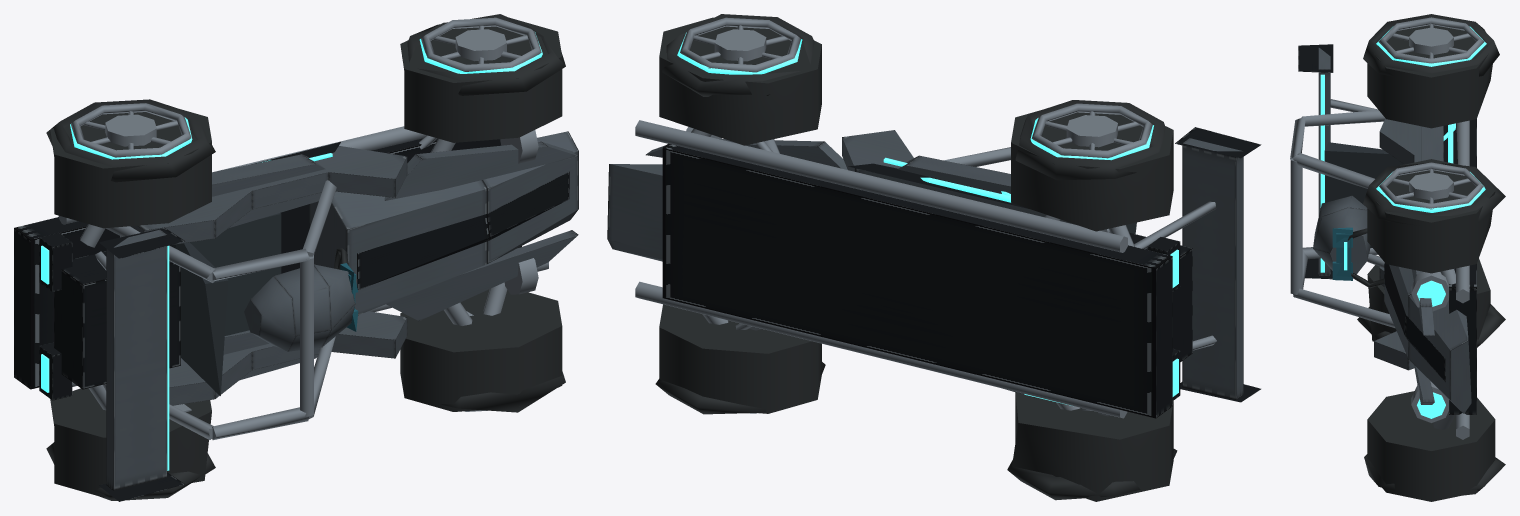
The model's file is kart-low.glb.
3 views of the same model, side by side, from view 1: azimuth 30°, elevation 25°; view 2: azimuth 150°, elevation 25°; view 3: azimuth 270°, elevation 25° (orthographic). The views are drawn at different scales.
Visible parts, largest first — view 1: kart-root.001 / Brushed pale alloy.001, kart-root.001 / Ceramic graphite.001, Wheel 0 -1.001 / Tire rubber.001, Wheel 1 1.001 / Tire rubber.001, Wheel 0 1.001 / Tire rubber.001, kart-root.001 / Titanium edges.001, kart-root.001 / Cockpit upholstery.001, Wheel 1 -1.001 / Tire rubber.001, Wheel 1 1.001 / Titanium edges.001, Wheel 0 1.001 / Titanium edges.001, kart-root.001 / Cyan instrumentation.001; view 2: kart-root.001 / Ceramic graphite.001, kart-root.001 / Brushed pale alloy.001, kart-root.001 / Titanium edges.001, Wheel 1 1.001 / Tire rubber.001, Wheel 0 1.001 / Tire rubber.001, Wheel 1 -1.001 / Tire rubber.001, Wheel 0 -1.001 / Tire rubber.001, Wheel 1 1.001 / Titanium edges.001, Wheel 0 1.001 / Titanium edges.001, kart-root.001 / Cyan instrumentation.001; view 3: kart-root.001 / Brushed pale alloy.001, Wheel 0 -1.001 / Tire rubber.001, Wheel 1 1.001 / Tire rubber.001, Wheel 0 1.001 / Tire rubber.001, kart-root.001 / Titanium edges.001, kart-root.001 / Ceramic graphite.001, Wheel 1 1.001 / Titanium edges.001, Wheel 0 1.001 / Titanium edges.001, kart-root.001 / Cockpit upholstery.001, Wheel 1 -1.001 / Tire rubber.001, kart-root.001 / Cyan instrumentation.001, kart-root.001 / Cyan glazing.001 (+3 smaller).
Boxes of the visible parts, <box> form: kart-root.001 / Brushed pale alloy.001: <box>106,131,578,490</box>; kart-root.001 / Ceramic graphite.001: <box>14,138,569,501</box>; Wheel 0 -1.001 / Tire rubber.001: <box>400,289,565,412</box>; Wheel 1 1.001 / Tire rubber.001: <box>46,99,215,228</box>; Wheel 0 1.001 / Tire rubber.001: <box>400,14,565,142</box>; kart-root.001 / Titanium edges.001: <box>58,126,548,440</box>; kart-root.001 / Cockpit upholstery.001: <box>170,213,281,395</box>; Wheel 1 -1.001 / Tire rubber.001: <box>46,388,215,500</box>; Wheel 1 1.001 / Titanium edges.001: <box>70,103,191,157</box>; Wheel 0 1.001 / Titanium edges.001: <box>421,17,541,71</box>; kart-root.001 / Cyan instrumentation.001: <box>41,153,332,470</box>; kart-root.001 / Ceramic graphite.001: <box>662,127,1261,418</box>; kart-root.001 / Brushed pale alloy.001: <box>607,130,1243,399</box>; kart-root.001 / Titanium edges.001: <box>635,120,1216,418</box>; Wheel 1 1.001 / Tire rubber.001: <box>1011,100,1173,231</box>; Wheel 0 1.001 / Tire rubber.001: <box>659,14,821,145</box>; Wheel 1 -1.001 / Tire rubber.001: <box>1007,392,1177,501</box>; Wheel 0 -1.001 / Tire rubber.001: <box>655,304,825,414</box>; Wheel 1 1.001 / Titanium edges.001: <box>1031,103,1152,158</box>; Wheel 0 1.001 / Titanium edges.001: <box>680,17,800,72</box>; kart-root.001 / Cyan instrumentation.001: <box>883,157,1178,405</box>; kart-root.001 / Brushed pale alloy.001: <box>1313,47,1471,413</box>; Wheel 0 -1.001 / Tire rubber.001: <box>1364,391,1505,501</box>; Wheel 1 1.001 / Tire rubber.001: <box>1363,14,1499,128</box>; Wheel 0 1.001 / Tire rubber.001: <box>1363,159,1505,273</box>; kart-root.001 / Titanium edges.001: <box>1290,99,1469,439</box>; kart-root.001 / Ceramic graphite.001: <box>1298,44,1476,414</box>; Wheel 1 1.001 / Titanium edges.001: <box>1378,17,1484,63</box>; Wheel 0 1.001 / Titanium edges.001: <box>1379,162,1483,209</box>; kart-root.001 / Cockpit upholstery.001: <box>1324,142,1404,247</box>; Wheel 1 -1.001 / Tire rubber.001: <box>1357,258,1505,347</box>; kart-root.001 / Cyan instrumentation.001: <box>1320,74,1455,418</box>; kart-root.001 / Cyan glazing.001: <box>1332,227,1352,280</box>.
Size of the model in its own units: 1.52 by 0.9244 by 0.6097.
Materials: 7 (2 with a texture image).
